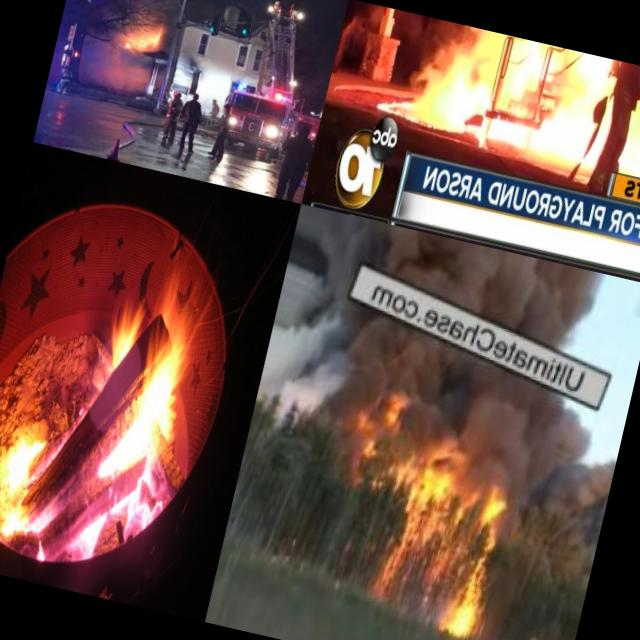fire: (0, 251, 217, 586), (397, 458, 512, 556), (494, 37, 566, 148), (424, 60, 506, 142), (351, 379, 413, 468), (124, 18, 166, 56), (626, 100, 640, 179), (521, 619, 559, 640)
smoke: (398, 367, 608, 497), (250, 301, 380, 444), (424, 18, 518, 78), (74, 39, 150, 94)
